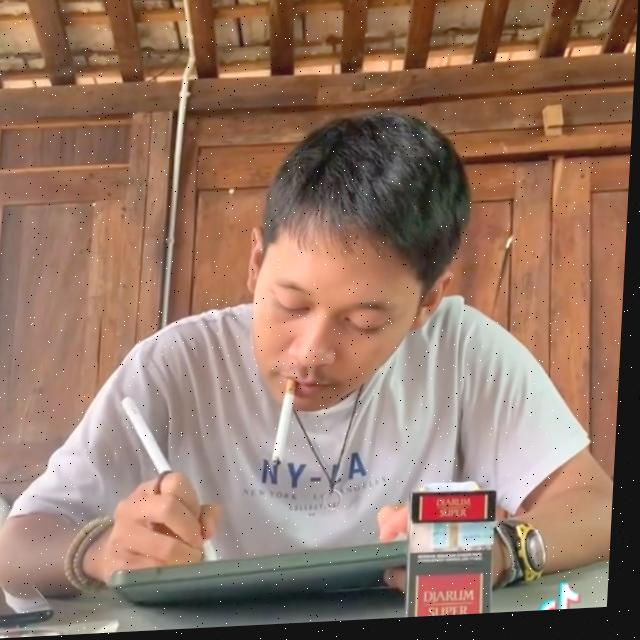cigarette: (276, 381, 300, 468)
